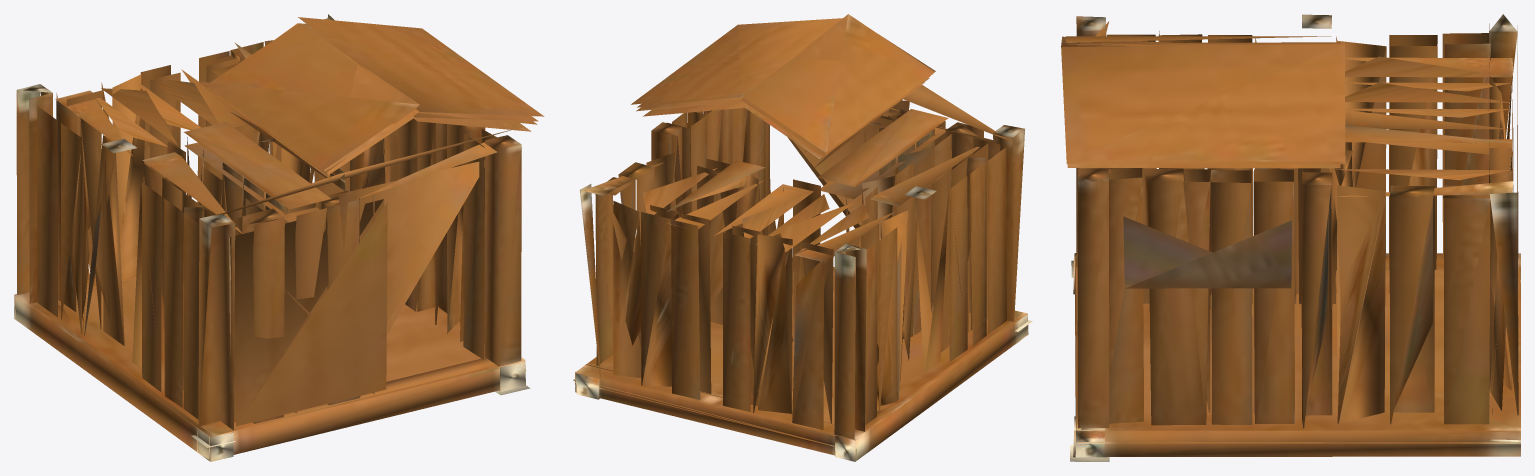
The model's file is compost-bin.lod1.glb.
3 renders of one model, left to right at view 1: azimuth 30°, elevation 25°; view 2: azimuth 150°, elevation 25°; view 3: azimuth 270°, elevation 25°, orthographic. The views are drawn at different scales.
Visible parts, largest first — view 1: compost-bin.001; view 2: compost-bin.001; view 3: compost-bin.001.
Boxes of the visible parts, left/top/right/bottom form: compost-bin.001: left=14, top=14, right=544, bottom=461; compost-bin.001: left=573, top=14, right=1032, bottom=461; compost-bin.001: left=1061, top=14, right=1520, bottom=461.
Size of the model in its own units: 0.9715 by 0.868 by 1.01.
Materials: 1 (1 with a texture image).
